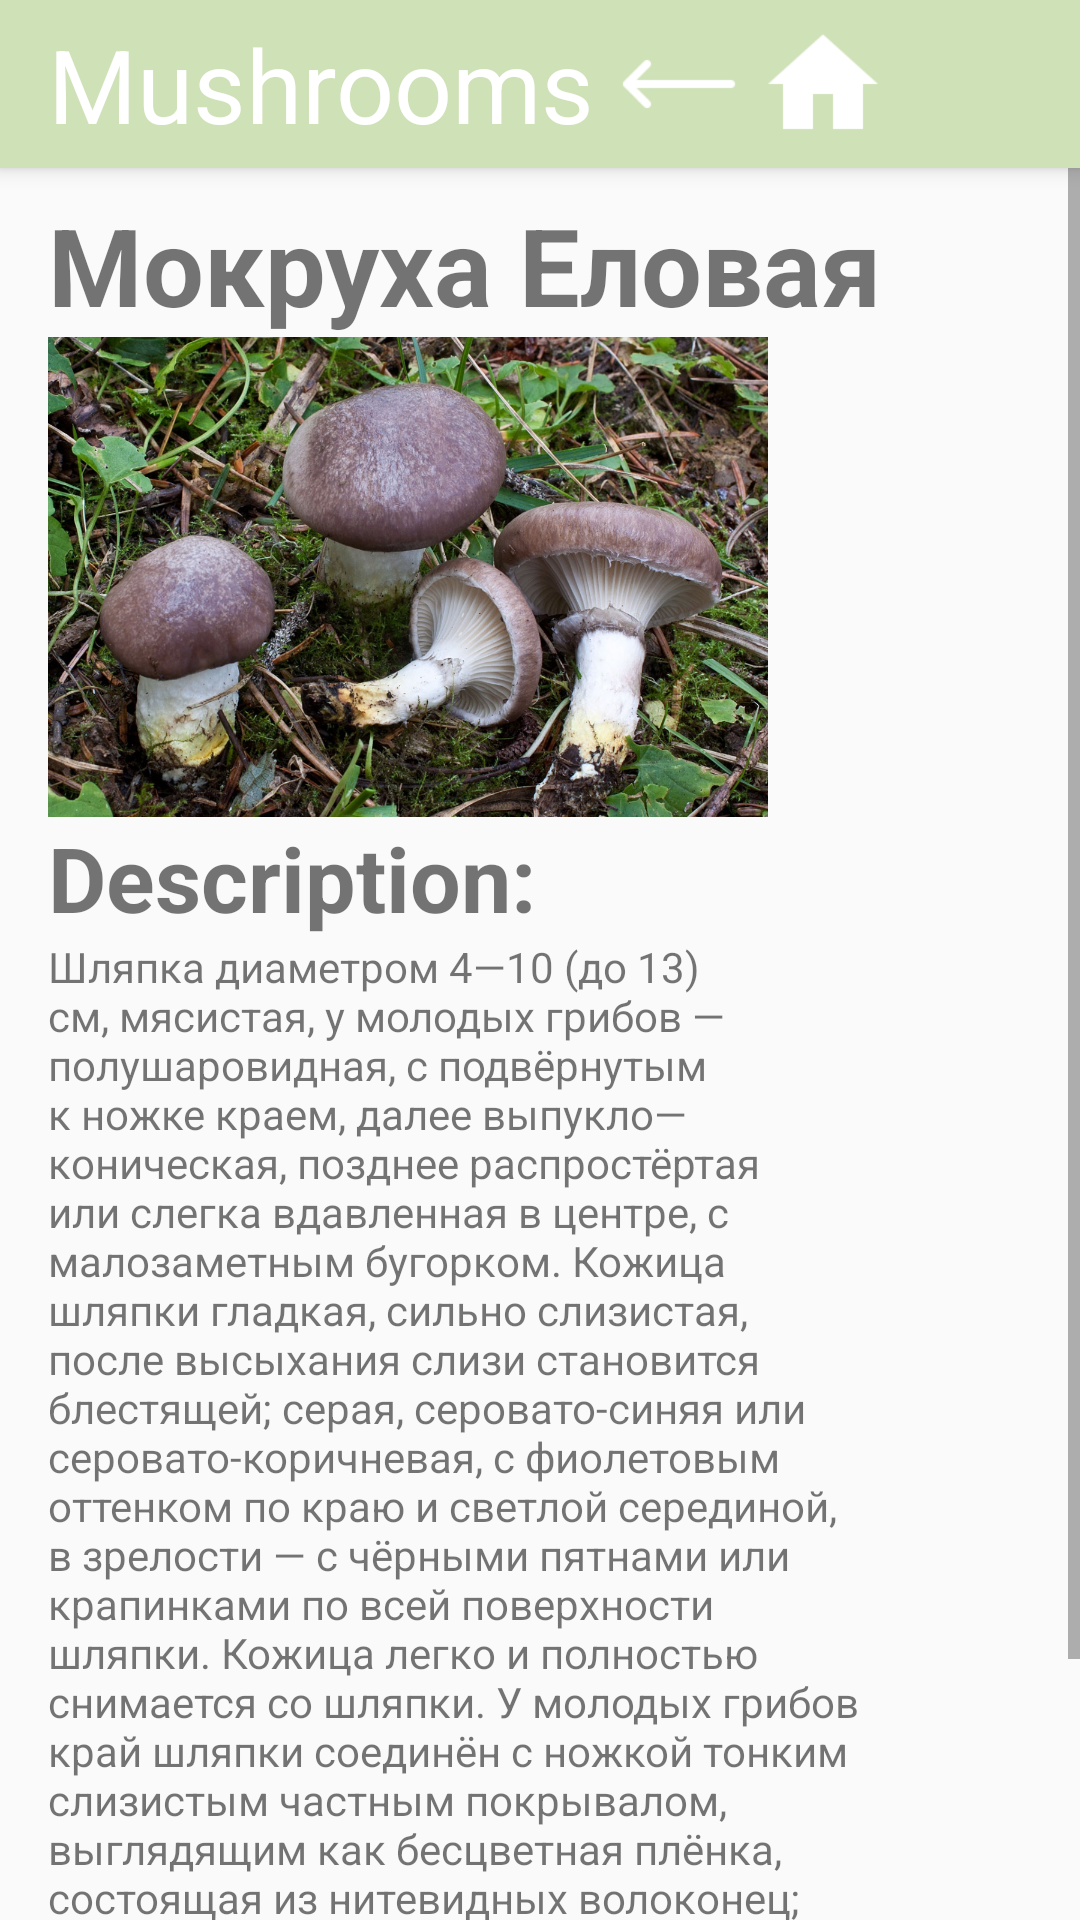

Screen size 1080 x 1920. Icon name, then its center in pixels as [x,y]:
home: [823,82]
long arrow left: [679,84]
